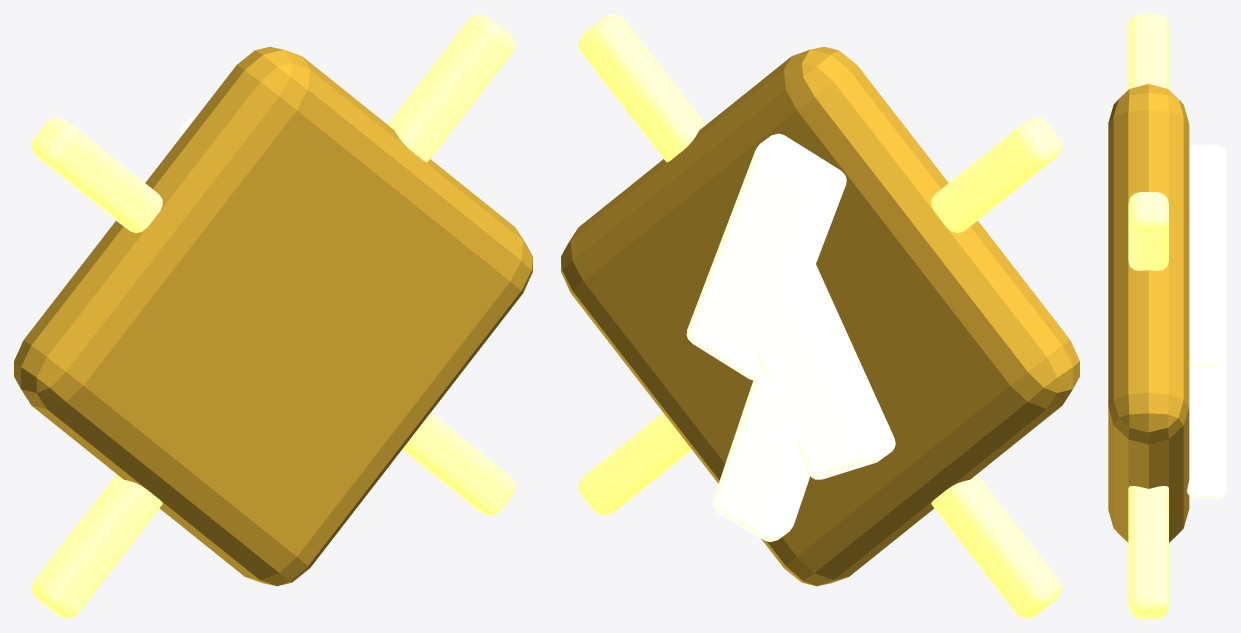
Rendered from speed-pickup-lod0.glb.
The picture shows the model from 3 angles, left to right: view 1: azimuth 30°, elevation 25°; view 2: azimuth 150°, elevation 25°; view 3: azimuth 270°, elevation 25°; orthographic projection. The views are drawn at different scales.
Parts seen in each view (by area): view 1: golden-glass-kite, luminous-rim.002, luminous-rim, luminous-rim.001, luminous-rim.003; view 2: golden-glass-kite, lightning-bolt-0, lightning-bolt-1, lightning-bolt-2, luminous-rim.002, luminous-rim, luminous-rim.001, luminous-rim.003; view 3: golden-glass-kite, lightning-bolt-0, luminous-rim.003, lightning-bolt-2, luminous-rim, luminous-rim.001.
Part boxes in pixels (x1,y1,x2,y2): golden-glass-kite: (14,46,532,586); luminous-rim.002: (31,474,162,618); luminous-rim: (387,14,515,162); luminous-rim.001: (31,117,162,233); luminous-rim.003: (402,412,515,515); golden-glass-kite: (561,46,1079,586); lightning-bolt-0: (686,133,846,380); lightning-bolt-1: (725,264,895,479); lightning-bolt-2: (713,368,810,541); luminous-rim.002: (931,474,1062,618); luminous-rim: (578,14,706,162); luminous-rim.001: (931,117,1062,233); luminous-rim.003: (578,412,691,515); golden-glass-kite: (1108,84,1189,542); lightning-bolt-0: (1189,144,1226,368); luminous-rim.003: (1128,486,1168,618); lightning-bolt-2: (1187,360,1226,498); luminous-rim: (1128,192,1168,270); luminous-rim.001: (1128,14,1168,89).
Bounding box in the file's own units: 0.8706 × 0.8706 × 0.205.
